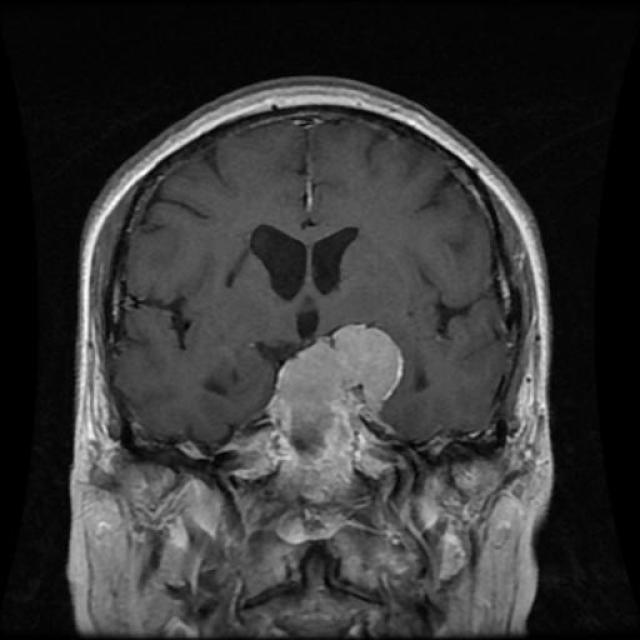Tumor: (265, 322, 400, 442)
